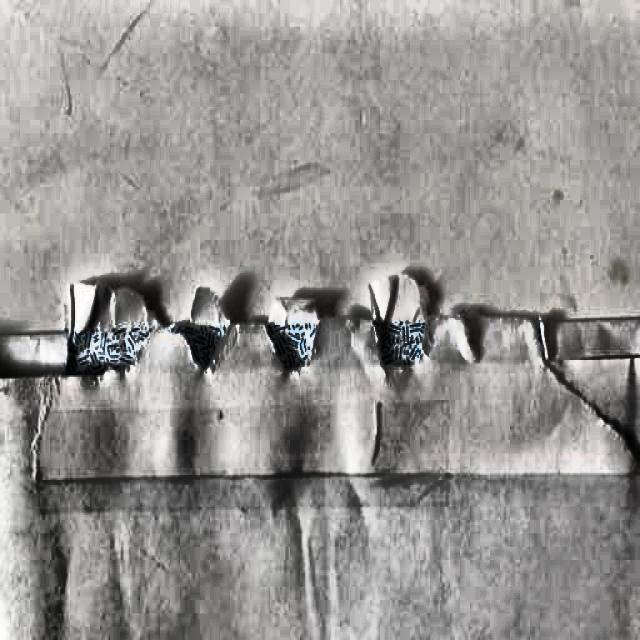paper: (0, 238, 640, 640)
